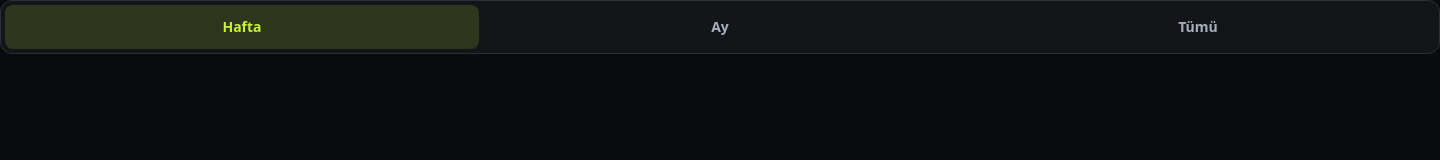
Test: SegmentedControl › selects on click
Expected: the radio button labelled "Hafta" is checked, [5,5,479,49]
What coordinates should you click on to do the following:
click the radio button labelled "Ay"
I would click on:
 (720, 27)
Its box is [483,5,957,49].
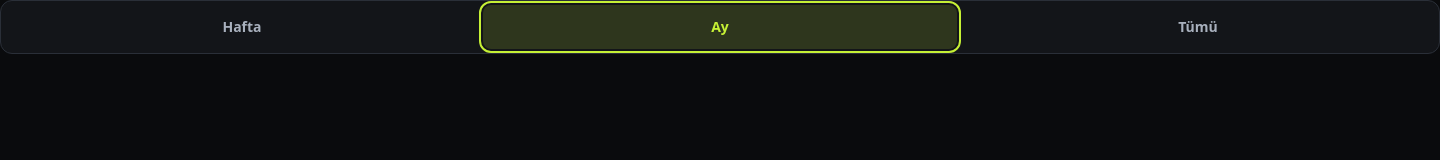
Expected: the radio button labelled "Ay" is checked, [483,5,957,49]
Expected: the radio button labelled "Hafta" is not checked, [5,5,479,49]
